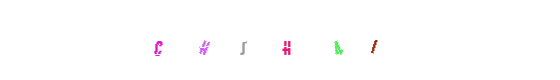1: (333, 0, 413, 80)
4: (297, 0, 377, 80)
C: (166, 0, 246, 80)
H: (202, 0, 282, 80), (240, 0, 320, 80)
S: (240, 0, 320, 80)
